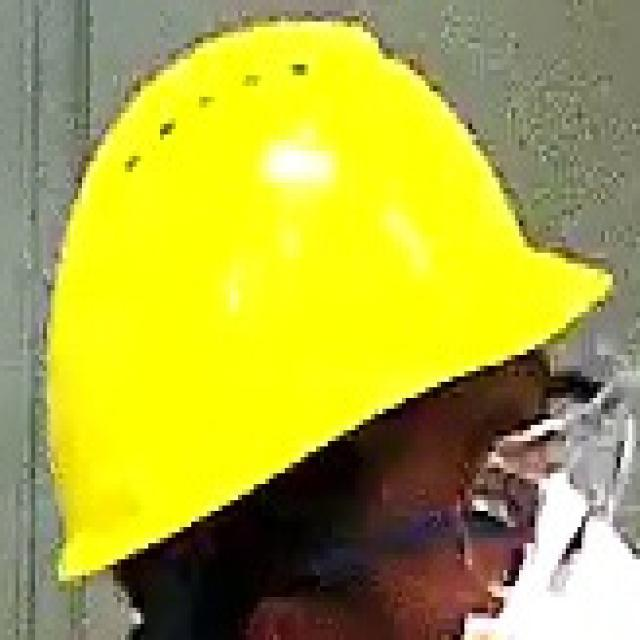yellow helmet: (38, 15, 615, 595)
